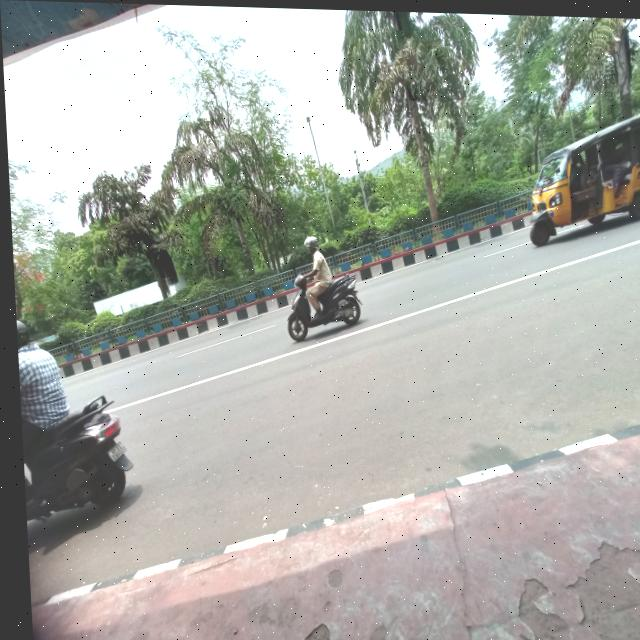bike: (29, 384, 141, 513), (279, 263, 370, 347)
